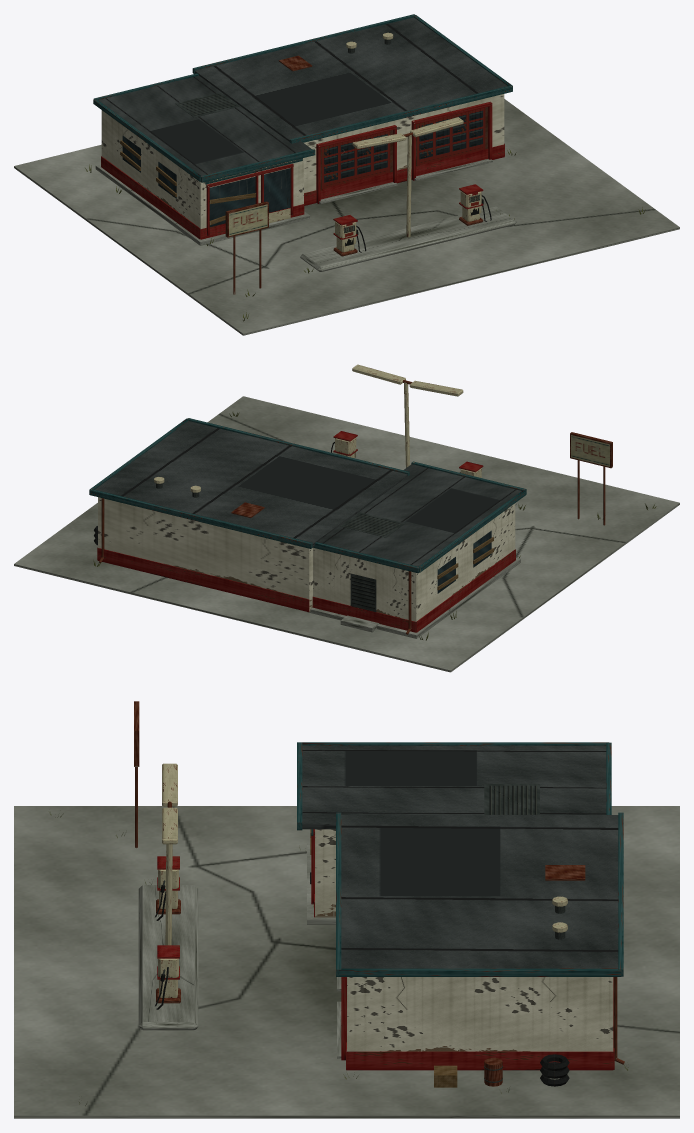
Rendered from gas_station_hideout.glb.
The picture shows the model from 3 angles, top to bottom: view 1: azimuth 30°, elevation 25°; view 2: azimuth 150°, elevation 25°; view 3: azimuth 270°, elevation 25°; orthographic projection. The views are drawn at different scales.
Parts seen in each view (by area): view 1: Grounds, Roof, Facade, Architecture, Pumps, Yard; view 2: Grounds, Roof, Architecture, Pumps, Facade, Yard, Details; view 3: Grounds, Roof, Architecture, Pumps, Yard, Facade.
Boxes of the visible parts, box(x1,y1,x2,y2) form: Grounds: box(14, 99, 679, 335); Roof: box(93, 14, 512, 182); Facade: box(120, 101, 492, 235); Architecture: box(95, 94, 504, 245); Pumps: box(300, 117, 516, 271); Yard: box(85, 149, 645, 321); Grounds: box(14, 396, 679, 672); Roof: box(89, 418, 526, 573); Architecture: box(97, 497, 520, 638); Pumps: box(331, 364, 516, 504); Facade: box(350, 530, 493, 612); Yard: box(93, 412, 656, 640); Details: box(99, 498, 411, 634); Grounds: box(14, 806, 679, 1118); Roof: box(297, 742, 623, 976); Architecture: box(307, 829, 614, 1070); Pumps: box(138, 763, 198, 1030); Yard: box(49, 701, 628, 1105); Facade: box(310, 829, 346, 1060).
Size of the model in its own units: 27.5 by 6.75 by 25.
Materials: 1 (1 with a texture image).
